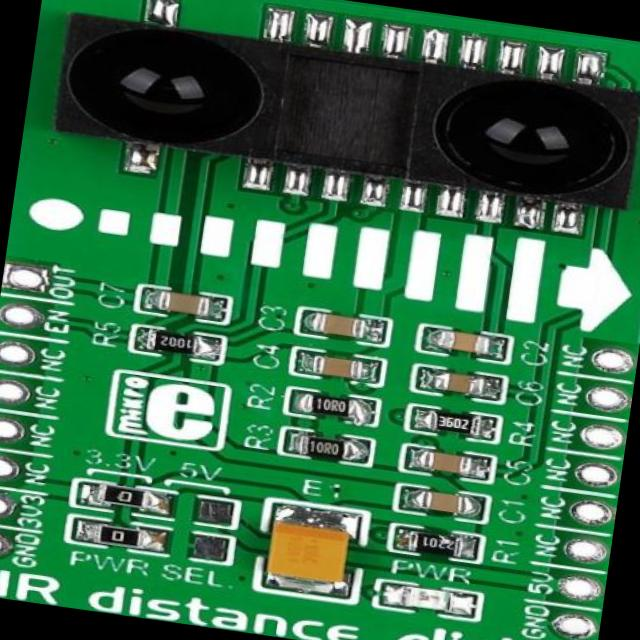IC: (50, 13, 640, 215)
LED: (394, 580, 466, 612)
capacitor: (258, 508, 356, 597), (433, 328, 511, 368), (312, 314, 385, 350), (410, 484, 483, 519), (417, 447, 489, 482), (144, 288, 217, 320), (310, 355, 374, 389), (434, 372, 494, 402)
resistor: (274, 422, 359, 468), (127, 326, 216, 358), (70, 482, 157, 512), (292, 392, 364, 423), (402, 531, 474, 555), (419, 407, 483, 434), (90, 522, 152, 548)
